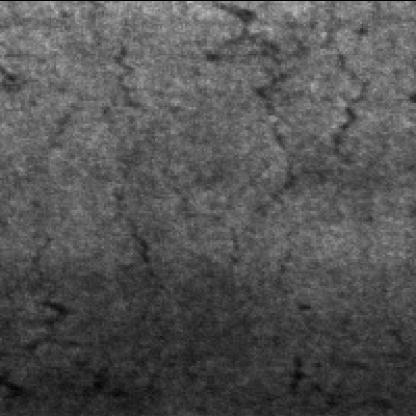crazing: (208, 0, 368, 262), (93, 31, 168, 391), (27, 233, 102, 366)
